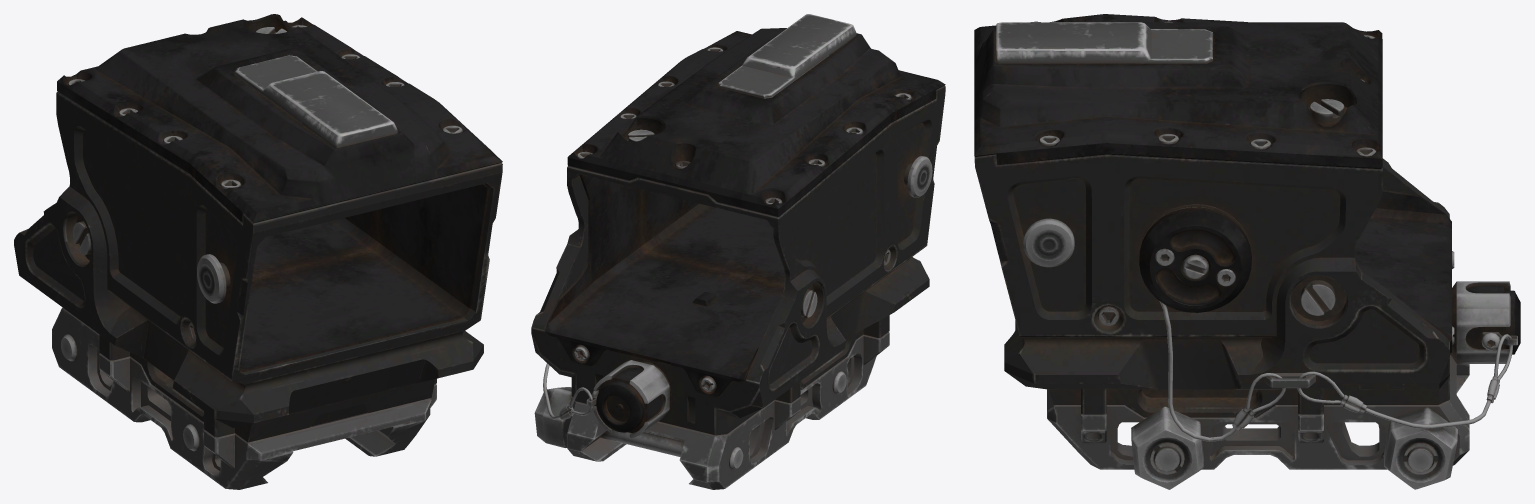
File: Sight_17.glb
3 views of the same model, side by side, from view 1: azimuth 30°, elevation 25°; view 2: azimuth 150°, elevation 25°; view 3: azimuth 270°, elevation 25° (orthographic). The views are drawn at different scales.
Visible parts, largest first — view 1: Sight_17; view 2: Sight_17; view 3: Sight_17.
Part boxes in pixels (left/top/right/bottom): Sight_17: left=14, top=14, right=502, bottom=489; Sight_17: left=531, top=14, right=945, bottom=489; Sight_17: left=974, top=14, right=1520, bottom=489.
Bounding box in the file's own units: 0.0455 × 0.0586 × 0.0735.
1 material, 1 textured.
